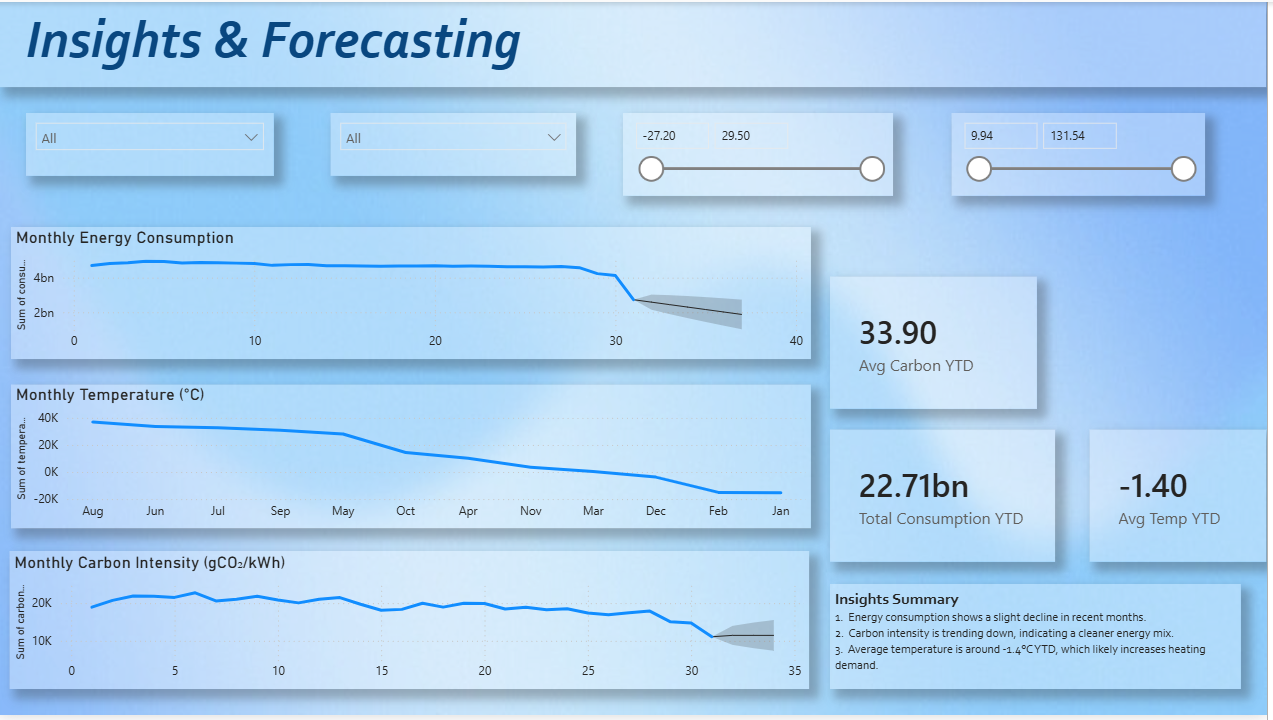

This screenshot's page, from the dashboard's own definition file:
{"tool":"powerbi","page":{"name":"Insights & Forecasting","canvas":[1280,720],"ordinal":5},"visuals":[{"type":"shape","box":[0,0,208.3,718.3],"z":0,"group":"g1"},{"type":"textbox","box":[220,0,600,86.2],"z":0},{"type":"shape","box":[0,1.5,207.4,719.1],"z":0,"group":"g2"},{"type":"pageNavigator","box":[0,191.7,208.3,411.7],"z":1000,"group":"g1"},{"type":"pageNavigator","box":[0,193.4,207.4,412.1],"z":1000,"group":"g2"},{"type":"areaChart","title":"Energy Consumption Trend","fields":{"Category":["Energy_Consumption.timestamp.Variation.Date Hierarchy.Day"],"Y":["Sum(Energy_Consumption.consumption_kwh)"]},"box":[220,338.5,570.8,173.8],"z":1000},{"type":"lineChart","title":"Carbon Intensity Trend","fields":{"Y":["Sum(fact_carbon_intensity.carbon_intensity)"],"Category":["Energy_Consumption.timestamp.Variation.Date Hierarchy.Day"]},"box":[220,536.9,570.8,167.7],"z":2000},{"type":"cardVisual","title":"🌡️Temperature YTD","fields":{"Data":["Temperature_Tampere.Avg Temp YTD"]},"box":[520,101.5,270.8,103.1],"z":3000},{"type":"ribbonChart","title":"Temperature Trend","fields":{"Category":["DateTable.Month"],"Y":["Sum(Temperature_Tampere.temperature_°C)"]},"box":[805.6,339.2,454.3,199.9],"z":4000},{"type":"textbox","box":[805.6,561.8,460.3,142.3],"z":5000},{"type":"cardVisual","title":"🌍Carbon Intensity YTD","fields":{"Data":["fact_carbon_intensity.Avg Carbon YTD"]},"box":[220,215.4,264.6,101.5],"z":6000},{"type":"cardVisual","title":"⚡Energy Consumption YTD","fields":{"Data":["Energy_Consumption.Total Consumption YTD"]},"box":[220,101.5,264.6,103.1],"z":7000},{"type":"scatterChart","title":"Temperature vs Carbon Intensity","fields":{"Category":["DateTable.Date"],"X":["Sum(Temperature_Tampere.temperature_°C)"],"Y":["Sum(fact_carbon_intensity.carbon_intensity)"]},"box":[806.2,101.5,453.8,215.4],"z":8000},{"type":"group","id":"g1","title":"Group 1","box":[0,0,207.7,718.5],"z":9000},{"type":"slicer","fields":{"Values":["DateTable.Year"]},"box":[1063.1,20,196.9,66.2],"z":10000},{"type":"slicer","fields":{"Values":["DateTable.Month"]},"box":[853.8,20,196.9,66.2],"z":11000},{"type":"cardVisual","title":" 📊Projected Consumption (7D)","fields":{"Data":["Energy_Consumption.Projected Energy Demand"]},"box":[520,215.4,270.8,101.5],"z":12000},{"type":"group","id":"g2","title":"Group 1","box":[0,1.5,207.4,719.1],"z":13000},{"type":"textbox","box":[0,633.8,219.1,85.3],"z":14000}]}

Visuals, with their boxes in screenshot pixels (x1, y1, x2, y2), scaled from the page's 1280x720 canvas onto the 1273x720 screenshot:
shape: x1=0 y1=0 x2=207 y2=718
textbox: x1=219 y1=0 x2=816 y2=86
shape: x1=0 y1=2 x2=206 y2=719
pageNavigator: x1=0 y1=192 x2=207 y2=603
pageNavigator: x1=0 y1=193 x2=206 y2=606
"Energy Consumption Trend" areaChart: x1=219 y1=338 x2=786 y2=512
"Carbon Intensity Trend" lineChart: x1=219 y1=537 x2=786 y2=705
"🌡️Temperature YTD" cardVisual: x1=517 y1=102 x2=786 y2=205
"Temperature Trend" ribbonChart: x1=801 y1=339 x2=1253 y2=539
textbox: x1=801 y1=562 x2=1259 y2=704
"🌍Carbon Intensity YTD" cardVisual: x1=219 y1=215 x2=482 y2=317
"⚡Energy Consumption YTD" cardVisual: x1=219 y1=102 x2=482 y2=205
"Temperature vs Carbon Intensity" scatterChart: x1=802 y1=102 x2=1253 y2=317
"Group 1" group: x1=0 y1=0 x2=207 y2=718
slicer - DateTable.Year: x1=1057 y1=20 x2=1253 y2=86
slicer - DateTable.Month: x1=849 y1=20 x2=1045 y2=86
" 📊Projected Consumption (7D)" cardVisual: x1=517 y1=215 x2=786 y2=317
"Group 1" group: x1=0 y1=2 x2=206 y2=719
textbox: x1=0 y1=634 x2=218 y2=719
